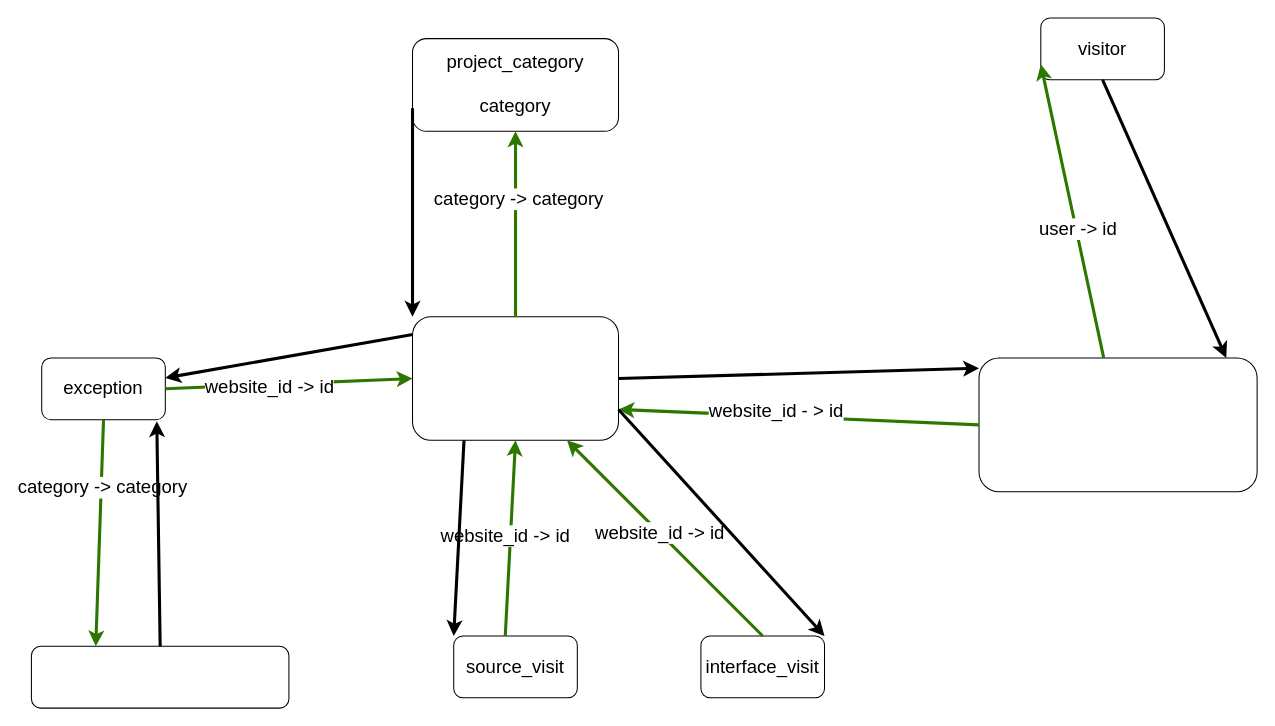
Image size: 1275x726. Some labels were removed from this diagram. Each missing label, with the box of its shape:
exception_category: (30, 645, 289, 708)
page_visit foreignKey: website_id foreignKey: visitor: (978, 357, 1257, 492)
project foreignKey: category: (411, 316, 619, 440)
